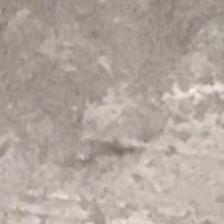Non_Crack: (26, 21, 224, 195)
